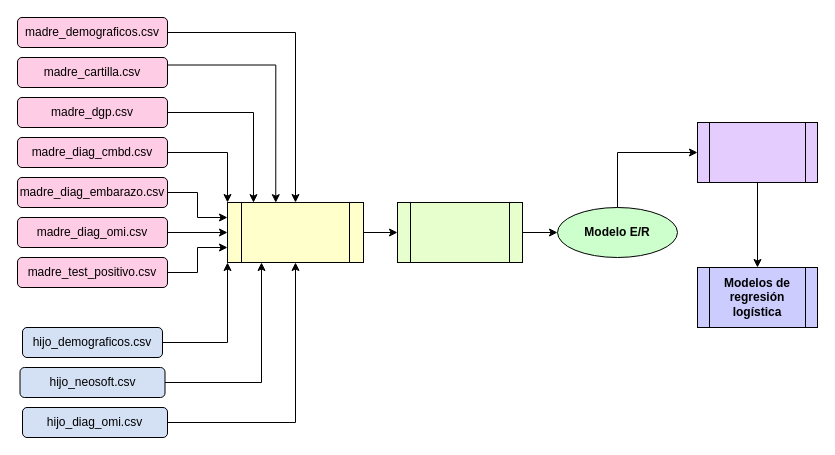
The diagram is 835 pixels wide and 455 high, and some of its shapes have lost their labels. Each missing label, with the box of its shape:
Análisis descriptivo: (696, 122, 818, 182)
Extracción de datos: (226, 202, 364, 262)
Transformación y limpieza: (396, 202, 522, 262)
